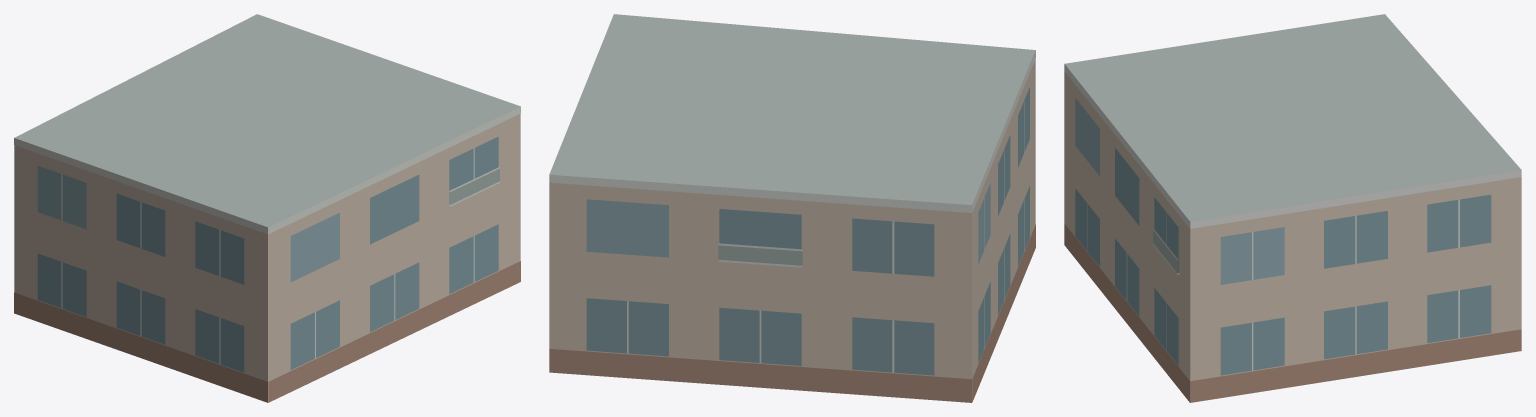
File: survey-upis-32953167.glb
The picture shows the model from 3 angles, left to right: view 1: azimuth 30°, elevation 25°; view 2: azimuth 150°, elevation 25°; view 3: azimuth 270°, elevation 25°; orthographic projection. The views are drawn at different scales.
Parts seen in each view (by area): view 1: survey-upis-32953167.tmp; view 2: survey-upis-32953167.tmp; view 3: survey-upis-32953167.tmp.
Boxes of the visible parts, box(x1,y1,x2,y2) form: survey-upis-32953167.tmp: box(14, 14, 520, 402); survey-upis-32953167.tmp: box(549, 14, 1035, 402); survey-upis-32953167.tmp: box(1064, 14, 1521, 402).
Size of the model in its own units: 15.01 by 6.1 by 13.96.
